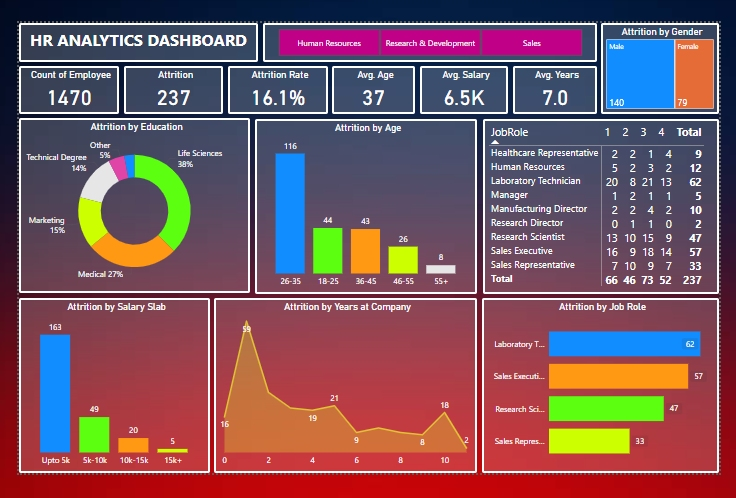

The page's visual inventory and layout, read from the dashboard file:
{"tool":"powerbi","page":{"name":"Page 1","canvas":[1400,900],"ordinal":0},"visuals":[{"type":"card","title":"Count of Employee","fields":{"Values":["CountNonNull(HR_Analytics.EmpID)"]},"box":[0,86,200,96],"z":0},{"type":"card","title":"Avg. Age","fields":{"Values":["Avg(HR_Analytics.Age)"]},"box":[626,86,166,96],"z":1000},{"type":"card","title":"Attrition Rate","fields":{"Values":["HR_Analytics.AttritionRate"]},"box":[418,86,200,96],"z":2000},{"type":"card","title":"Attrition","fields":{"Values":["Sum(HR_Analytics.AttritionCount)"]},"box":[210,86,198,96],"z":3000},{"type":"card","title":"Avg. Salary","fields":{"Values":["Avg(HR_Analytics.MonthlyIncome)"]},"box":[802,86,176,96],"z":4000},{"type":"card","title":"Avg. Years","fields":{"Values":["Avg(HR_Analytics.YearsAtCompany)"]},"box":[988,86,168,96],"z":5000},{"type":"donutChart","title":"Attrition by Education","fields":{"Y":["Sum(HR_Analytics.AttritionCount)"],"Category":["HR_Analytics.EducationField"]},"box":[0,190,462,350],"z":6000},{"type":"columnChart","title":"Attrition by Age","fields":{"Category":["HR_Analytics.AgeGroup"],"Y":["Sum(HR_Analytics.AttritionCount)"]},"box":[472,192,444,350],"z":7000},{"type":"pivotTable","title":"JobRole by Job Satisfaction","fields":{"Rows":["HR_Analytics.JobRole"],"Columns":["HR_Analytics.JobSatisfaction"],"Values":["Sum(HR_Analytics.AttritionCount)"]},"box":[928,192,472,350],"z":8000},{"type":"columnChart","title":"Attrition by Salary Slab","fields":{"Category":["HR_Analytics.SalarySlab"],"Y":["Sum(HR_Analytics.AttritionCount)"]},"box":[0,550,382,350],"z":8001},{"type":"clusteredBarChart","title":"Attrition by Job Role","fields":{"Category":["HR_Analytics.JobRole"],"Y":["Sum(HR_Analytics.AttritionCount)"]},"box":[926,550,474,350],"z":8002},{"type":"areaChart","title":"Attrition by Years at Company","fields":{"Category":["HR_Analytics.YearsAtCompany"],"Y":["Sum(HR_Analytics.AttritionCount)"]},"box":[390,550,526,350],"z":8003},{"type":"treemap","title":"Attrition by Gender","fields":{"Group":["HR_Analytics.Gender"],"Values":["Sum(HR_Analytics.AttritionCount)"]},"box":[1164,0,236,182],"z":8004},{"type":"slicer","fields":{"Values":["HR_Analytics.Department"]},"box":[488,0,668,78],"z":8005},{"type":"textbox","box":[0,0,478,78],"z":8006}]}

Visuals, with their boxes in screenshot pixels (x1, y1, x2, y2):
"Count of Employee" card: rect(17, 64, 117, 112)
"Avg. Age" card: rect(330, 64, 413, 112)
"Attrition Rate" card: rect(226, 64, 326, 112)
"Attrition" card: rect(122, 64, 221, 112)
"Avg. Salary" card: rect(418, 64, 506, 112)
"Avg. Years" card: rect(511, 64, 595, 112)
"Attrition by Education" donutChart: rect(17, 116, 248, 291)
"Attrition by Age" columnChart: rect(253, 117, 475, 292)
"JobRole by Job Satisfaction" pivotTable: rect(481, 117, 717, 292)
"Attrition by Salary Slab" columnChart: rect(17, 296, 208, 471)
"Attrition by Job Role" clusteredBarChart: rect(480, 296, 717, 471)
"Attrition by Years at Company" areaChart: rect(212, 296, 475, 471)
"Attrition by Gender" treemap: rect(599, 21, 717, 112)
slicer - HR_Analytics.Department: rect(261, 21, 595, 60)
textbox: rect(17, 21, 256, 60)
